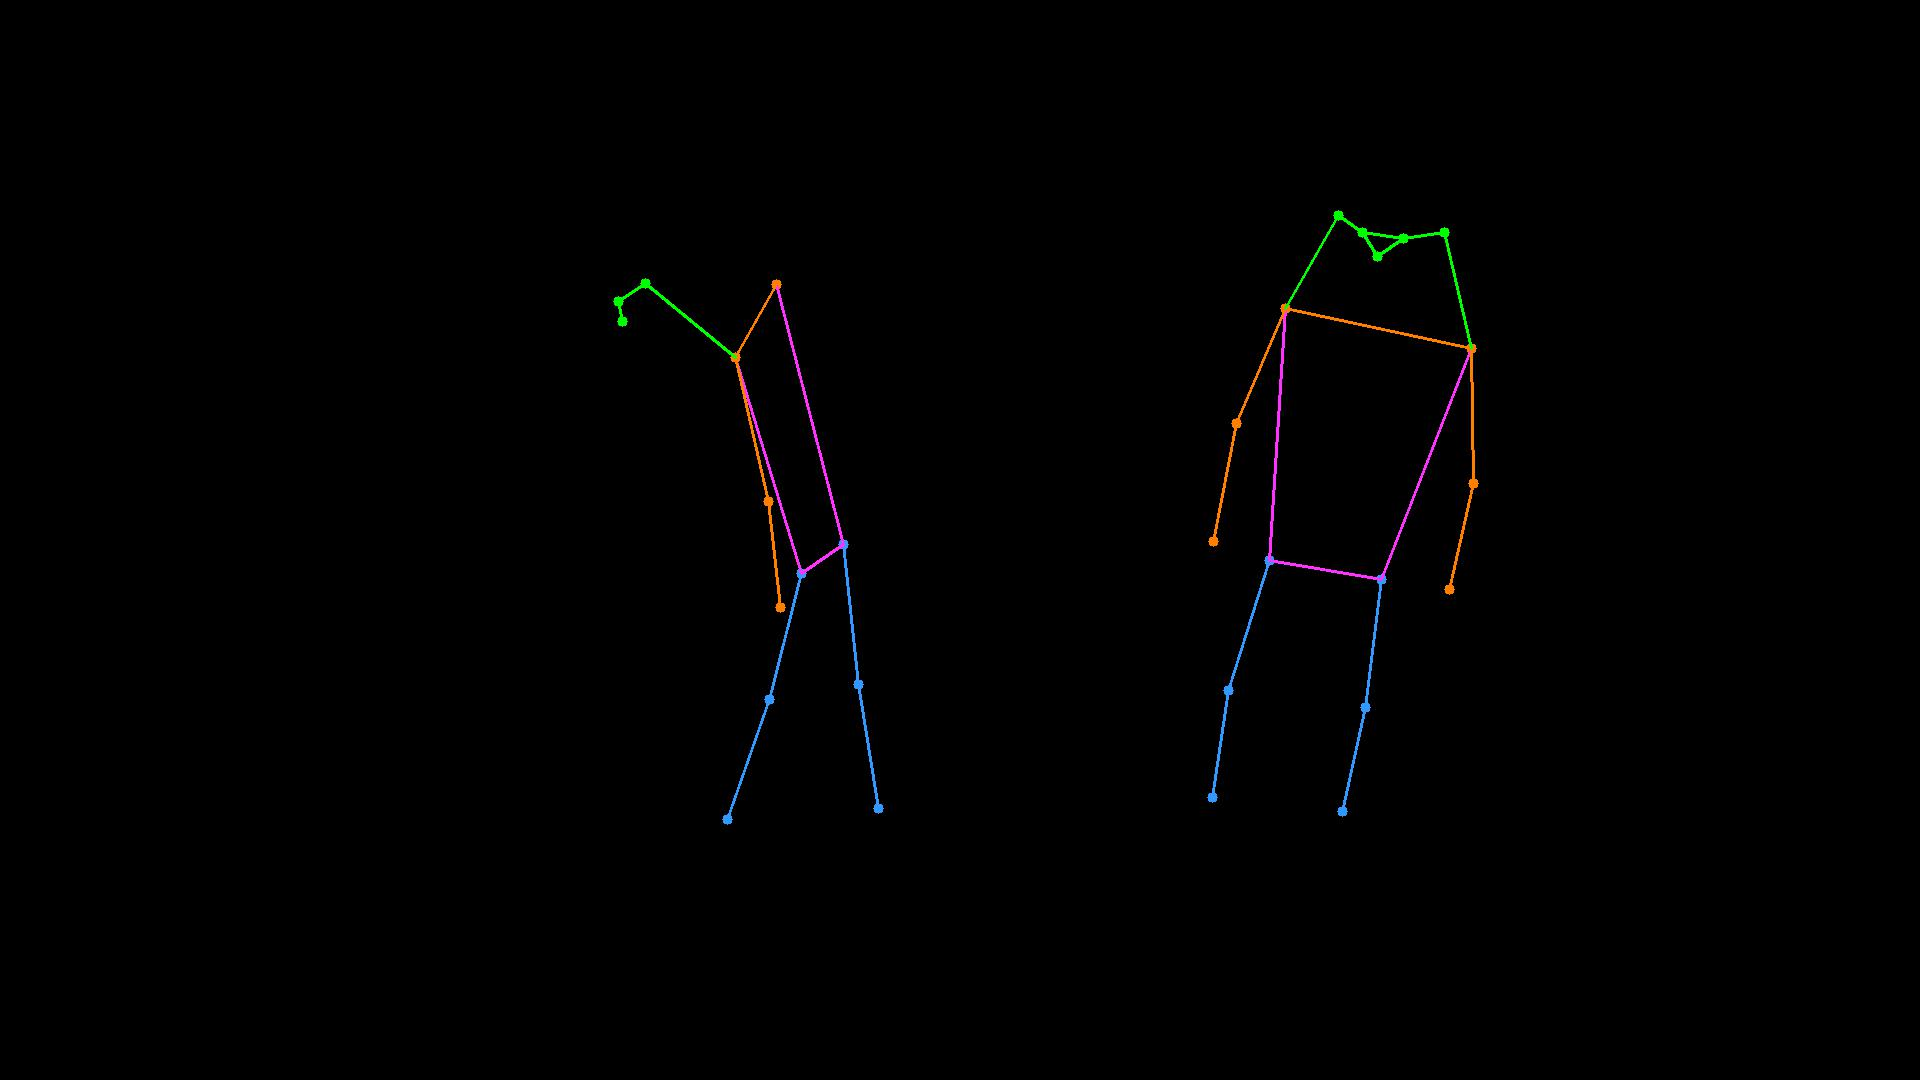normal: (1129, 152, 1557, 866), (551, 231, 945, 860)
